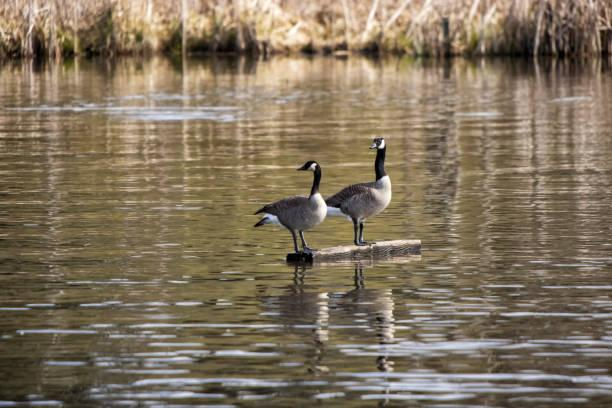Canadian-Goose: (322, 134, 395, 244), (253, 159, 328, 254)
